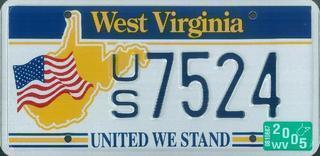placa de veiculo: (7, 4, 316, 153)
